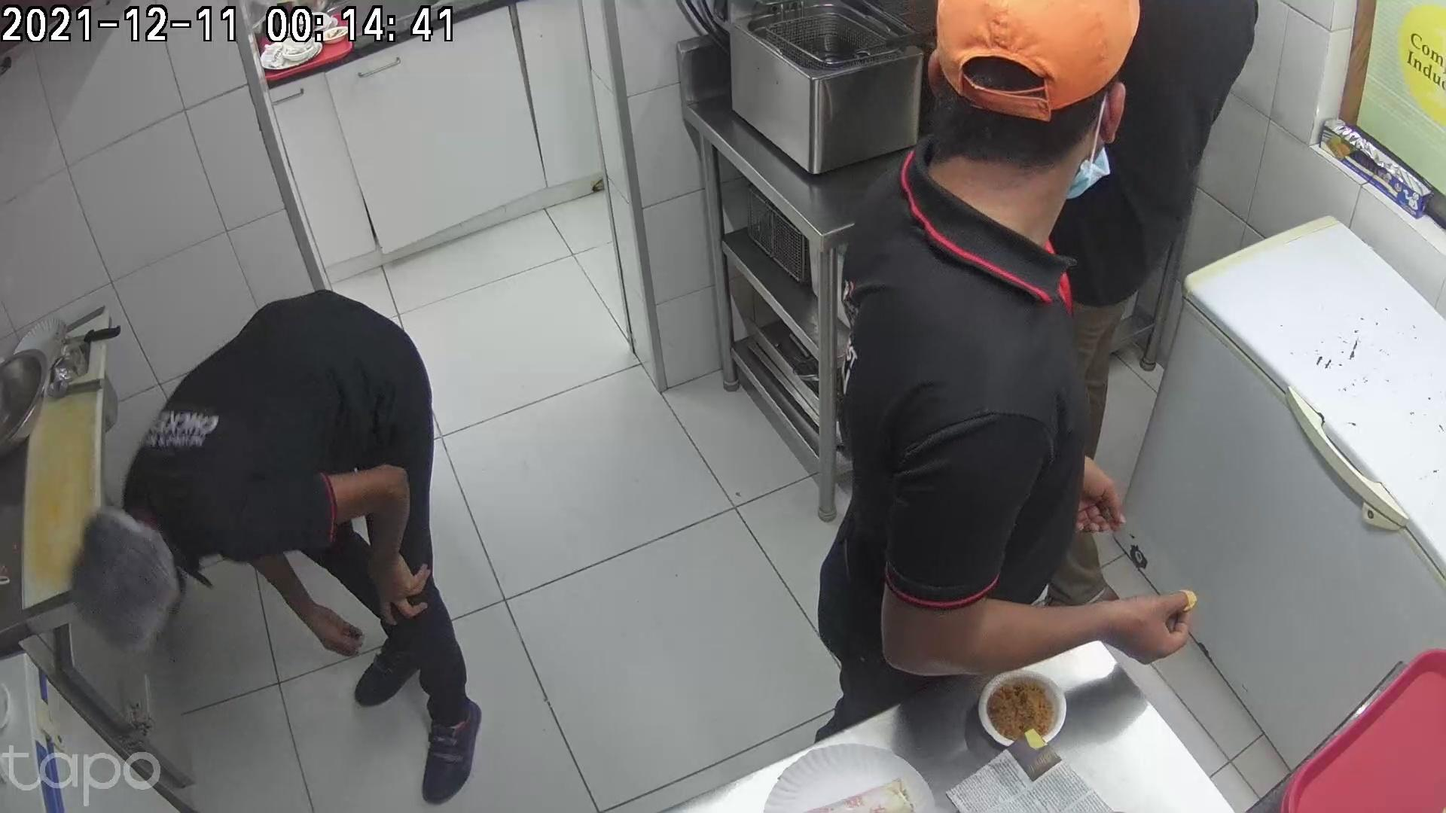gloves: (667, 592, 756, 750), (458, 659, 648, 730)
